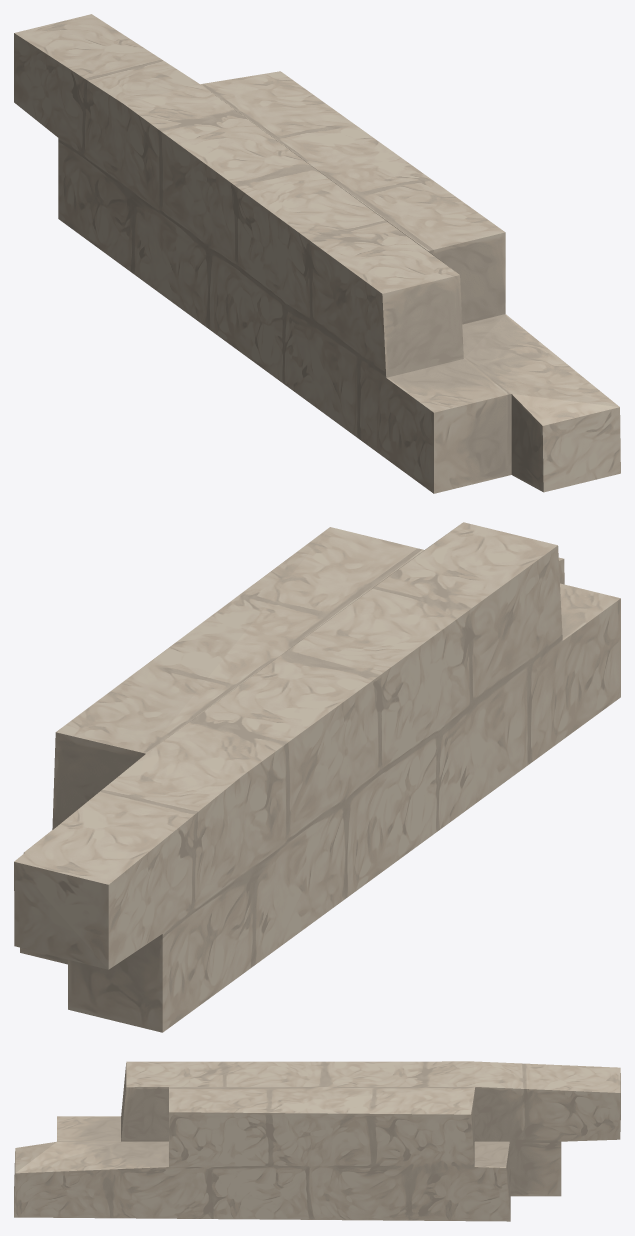
The model's file is kolumna_duza_2.obj.
The picture shows the model from 3 angles, top to bottom: view 1: azimuth 30°, elevation 25°; view 2: azimuth 150°, elevation 25°; view 3: azimuth 270°, elevation 25°; orthographic projection. The views are drawn at different scales.
Visible parts, largest first — view 1: Cube.039; view 2: Cube.039; view 3: Cube.039.
Part boxes in pixels (x1=…): Cube.039: x1=14, y1=14, x2=620, y2=493; Cube.039: x1=14, y1=522, x2=620, y2=1032; Cube.039: x1=14, y1=1061, x2=620, y2=1221.
Size of the model in its own units: 11.96 by 12 by 60.42.
1 material, 1 textured.
